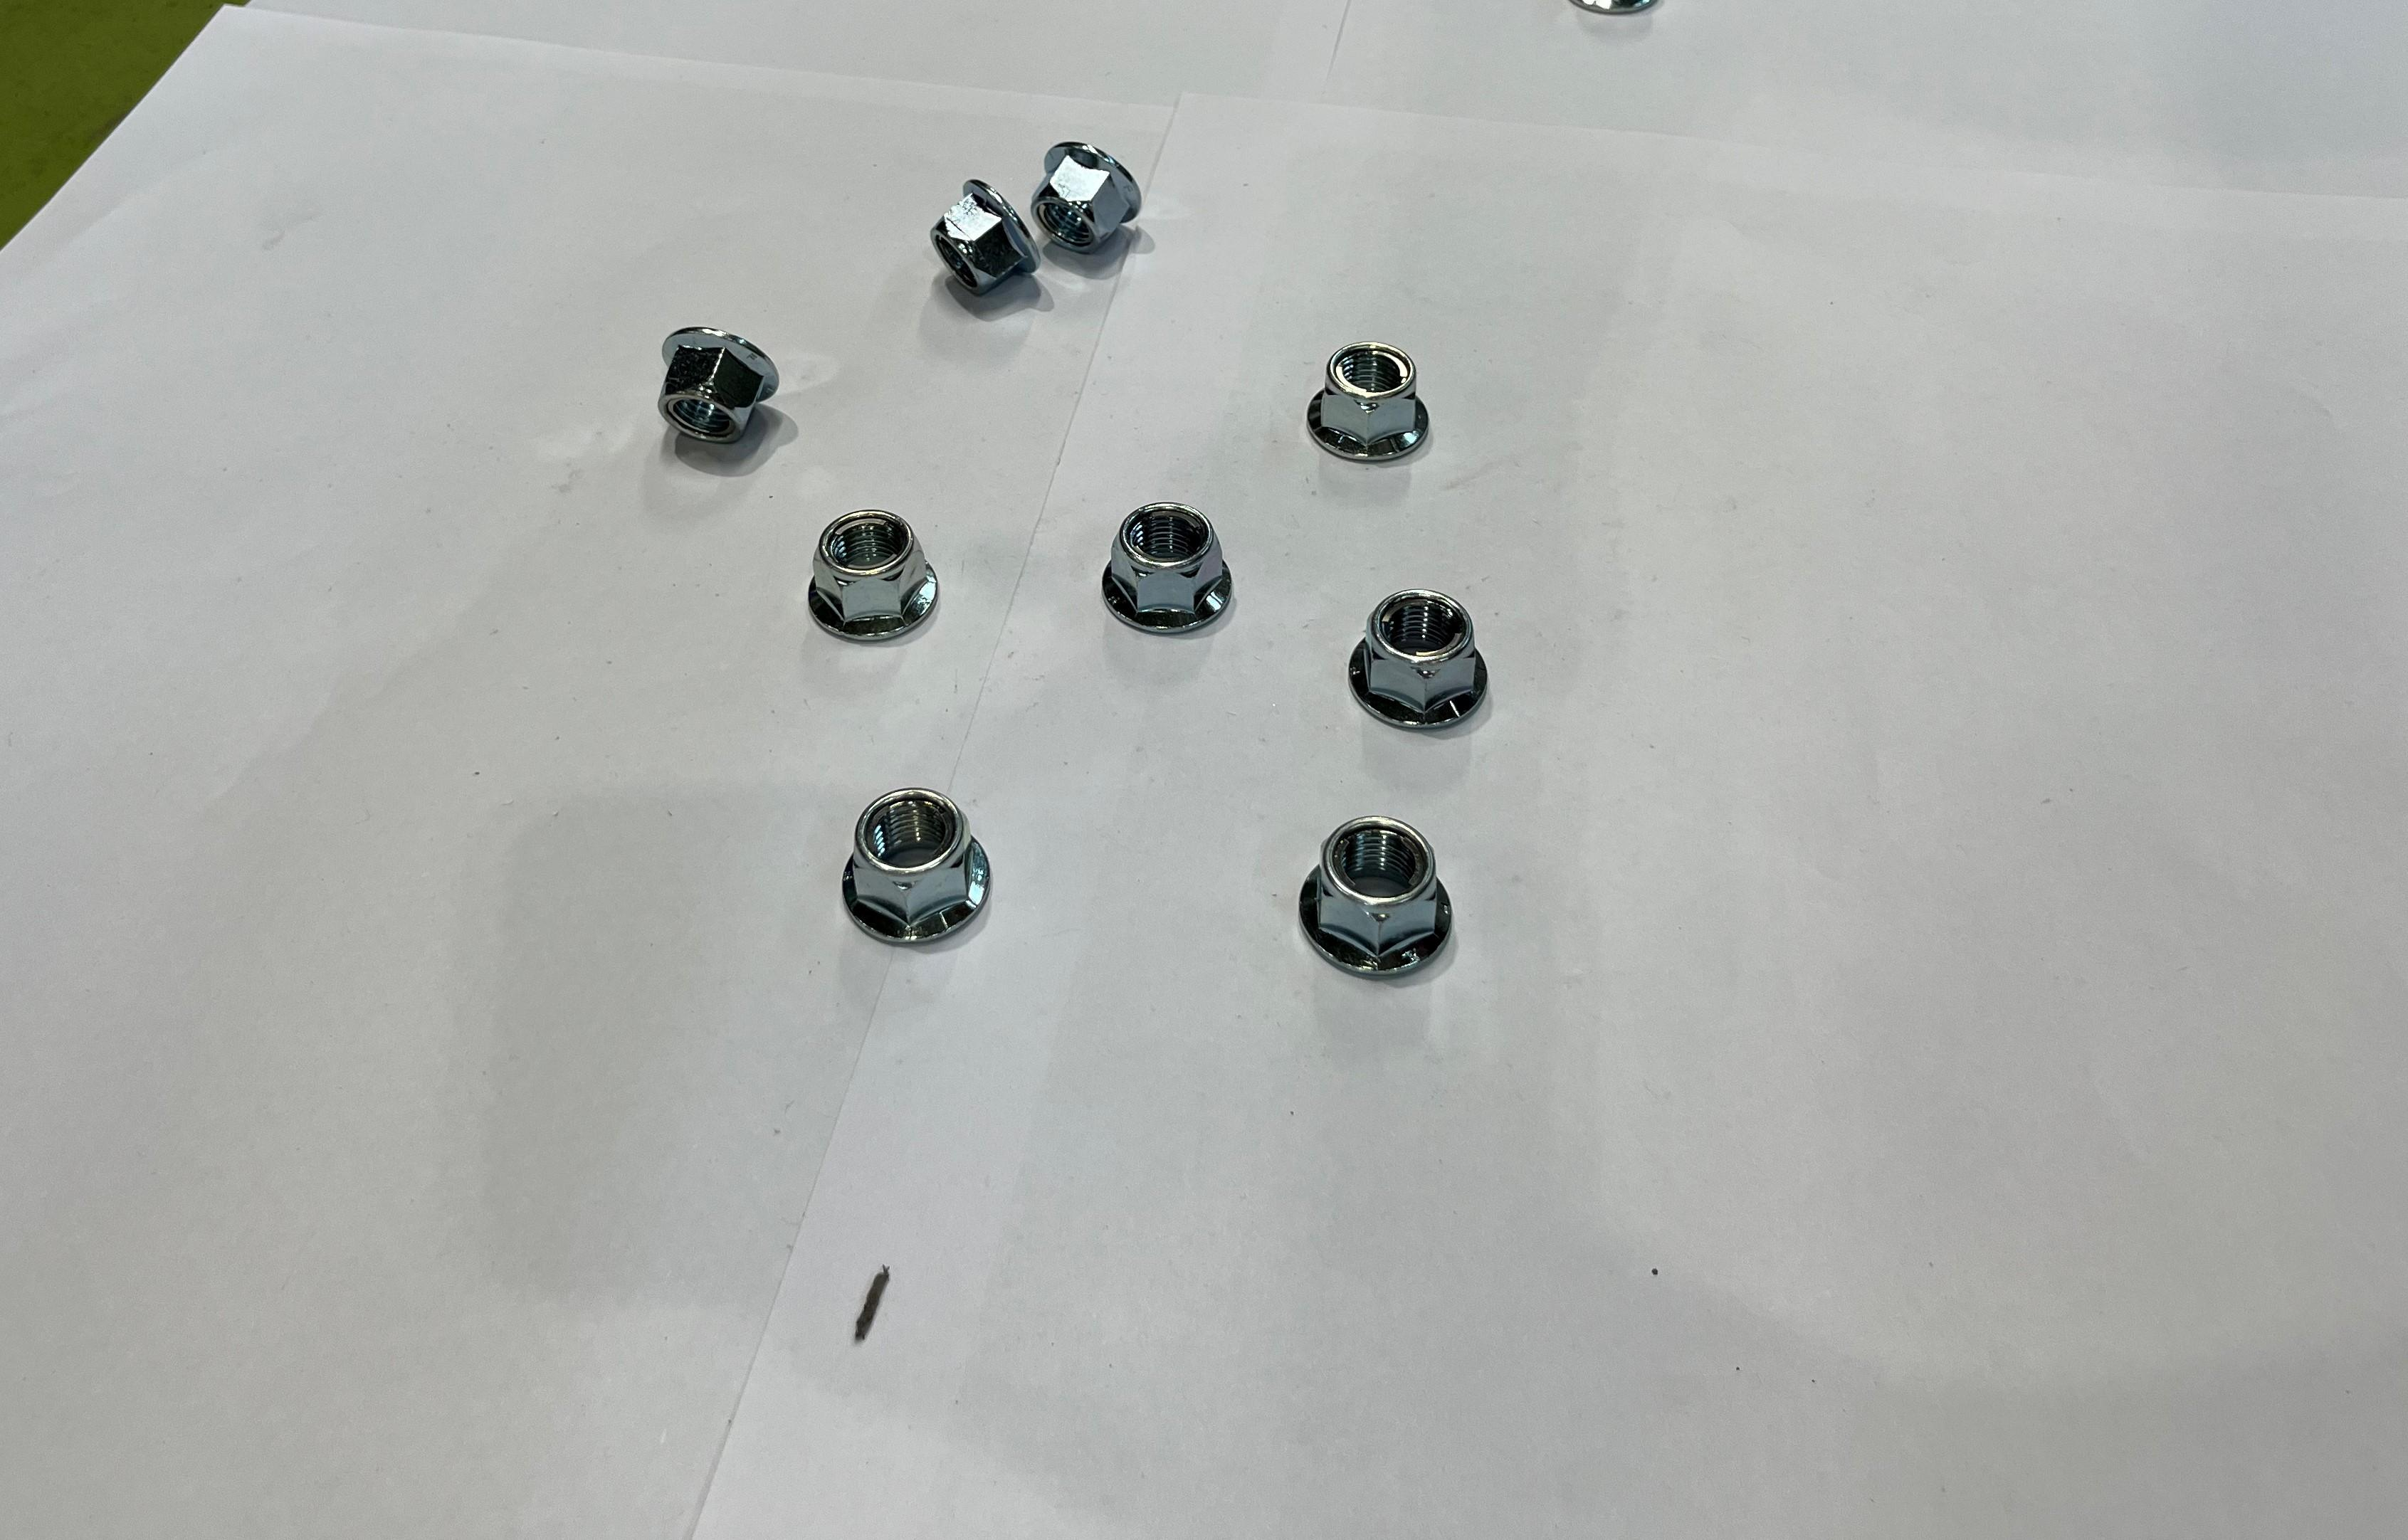Type B: (841, 796, 995, 952)
